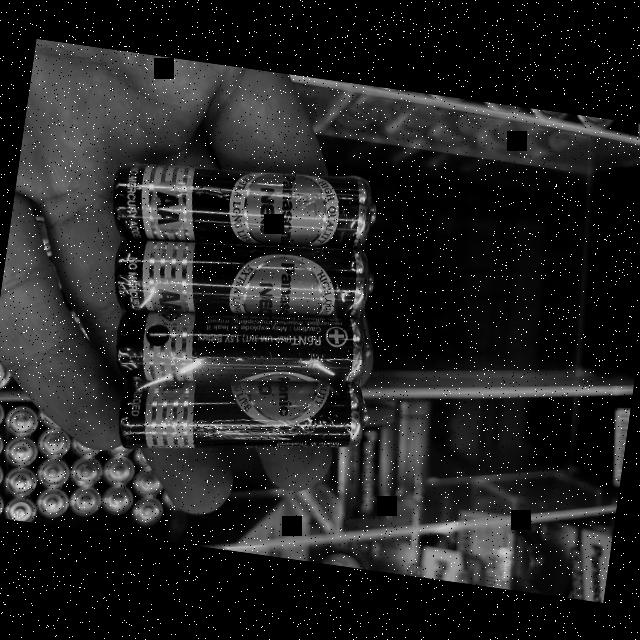battery: (97, 348, 380, 486), (108, 271, 380, 406), (106, 142, 384, 266), (107, 226, 385, 331)
